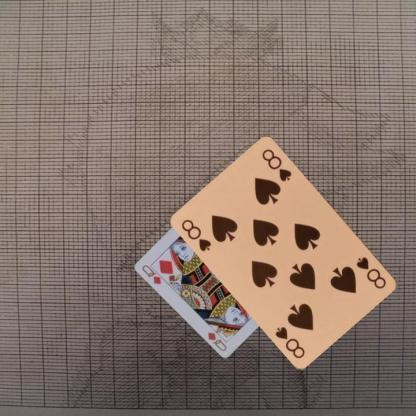8s: (179, 216, 213, 254), (354, 254, 388, 290)
Qd: (140, 262, 168, 286)
